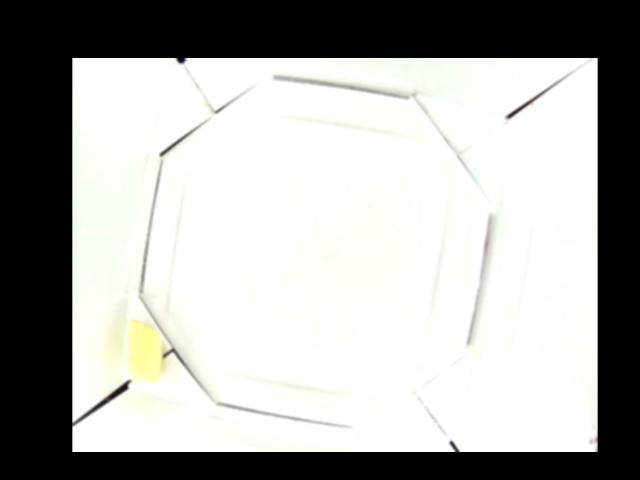Potato: (125, 317, 165, 383)
